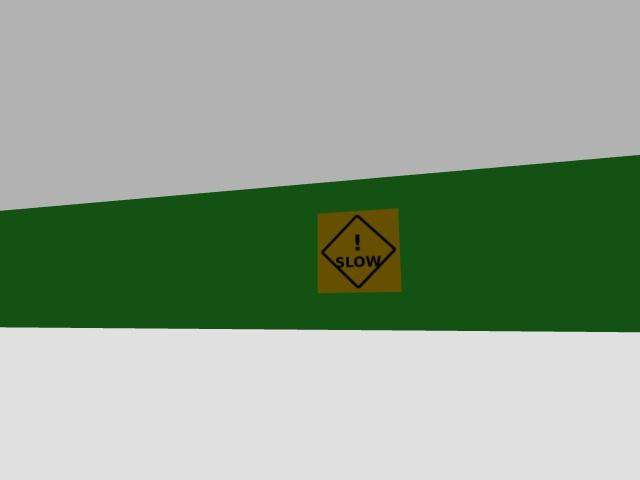slow: (318, 208, 401, 292)
